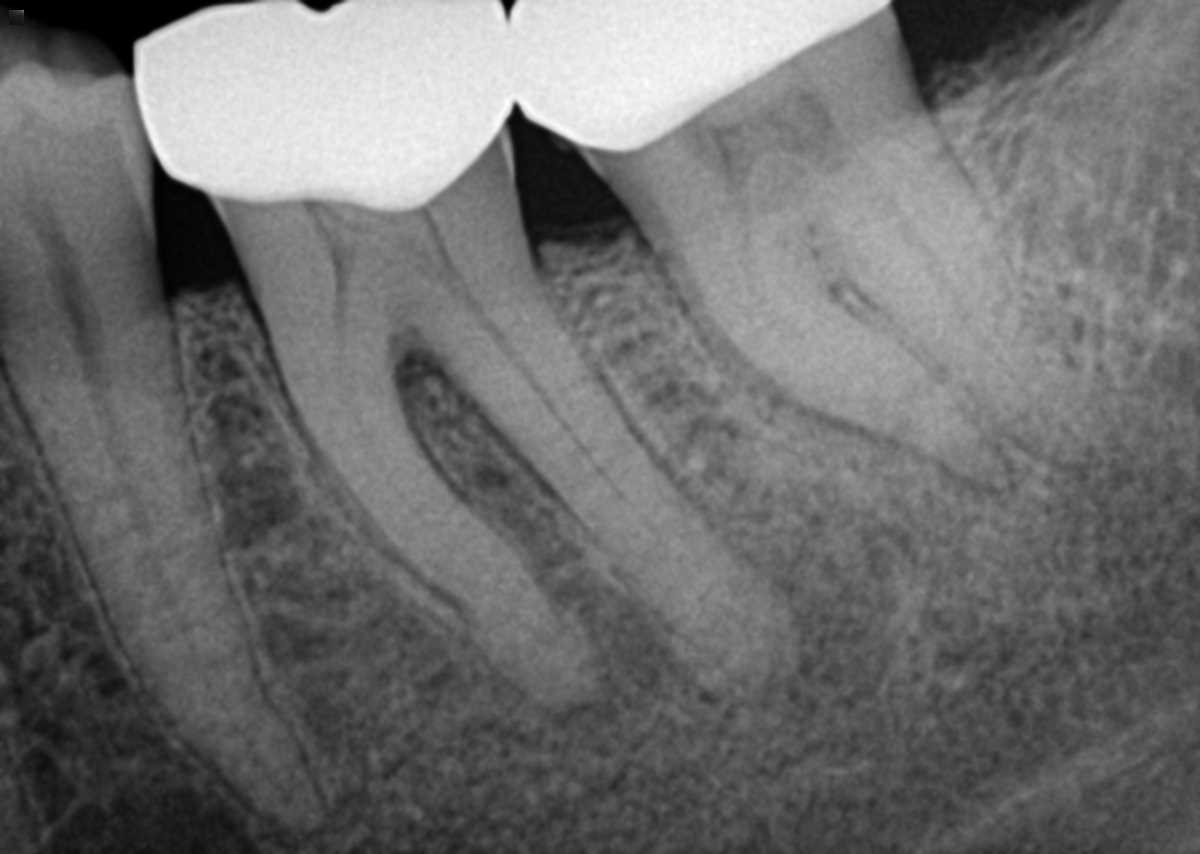Apical Lesion: (711, 456, 914, 740), (475, 480, 668, 759)
Distal Canal: (828, 156, 1093, 455), (463, 294, 680, 553)
Distal Root: (417, 250, 803, 684), (793, 105, 1105, 466)
Main Canal: (79, 355, 293, 804)
Main Root: (4, 315, 337, 854)
Mesial Root: (264, 320, 609, 708), (659, 194, 1003, 492)
